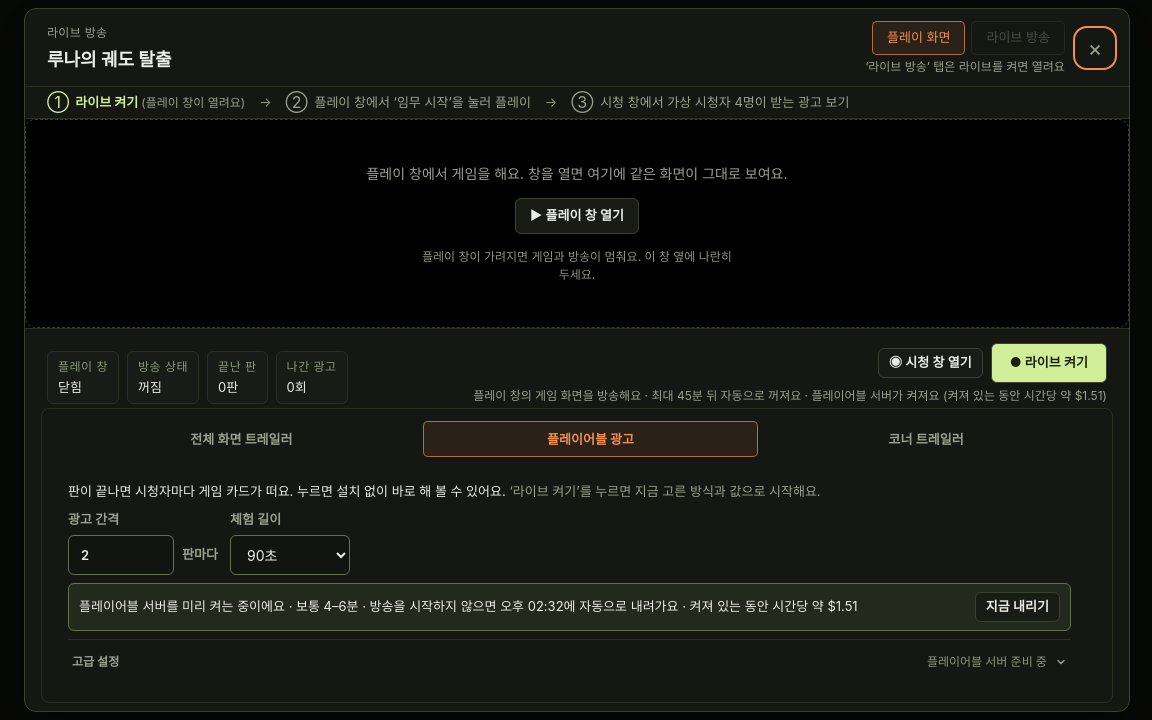
Scenario: 미리 켜기 says what the server answered, not what was pressed (new finding 3, R20-06) › 지금 내리기 says 내리는 중… until the answer, then the line and the button are the answer
Later steps or results of the test are not shown.
Click the button "지금 내리기" at (1017, 607), box [975, 592, 1060, 622]
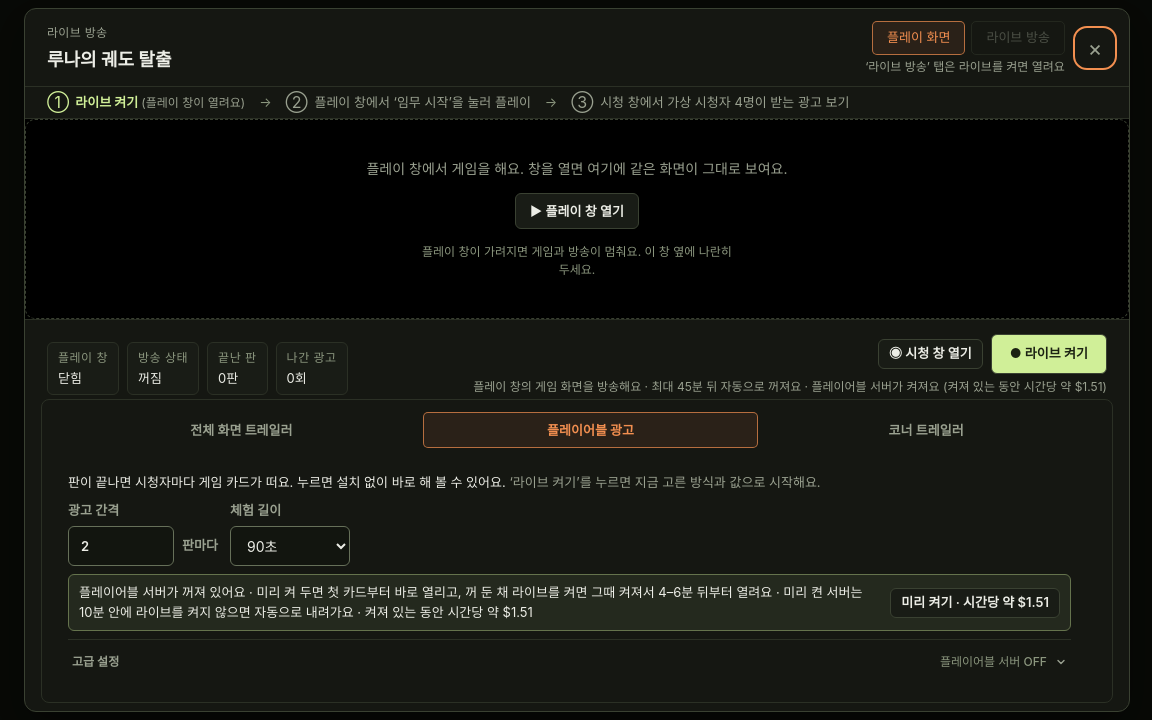
Now the button "미리 켜기 · 시간당 약 $1.51" is shown, box [890, 588, 1060, 618]
